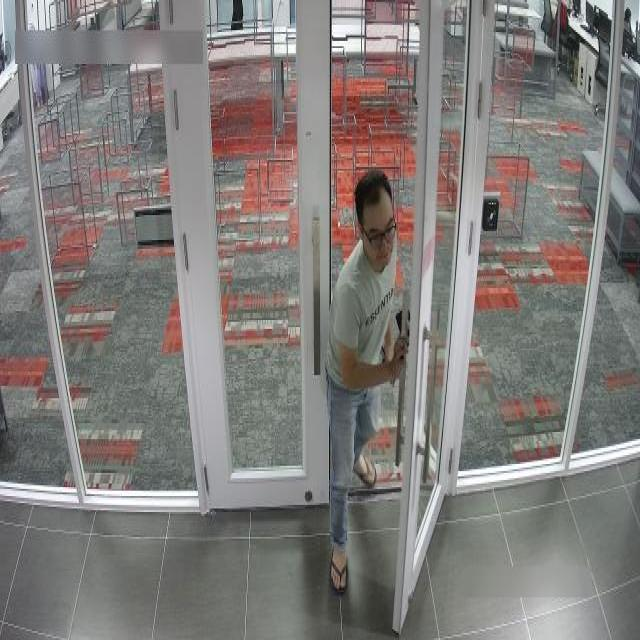bare_hand: (381, 320, 411, 377)
